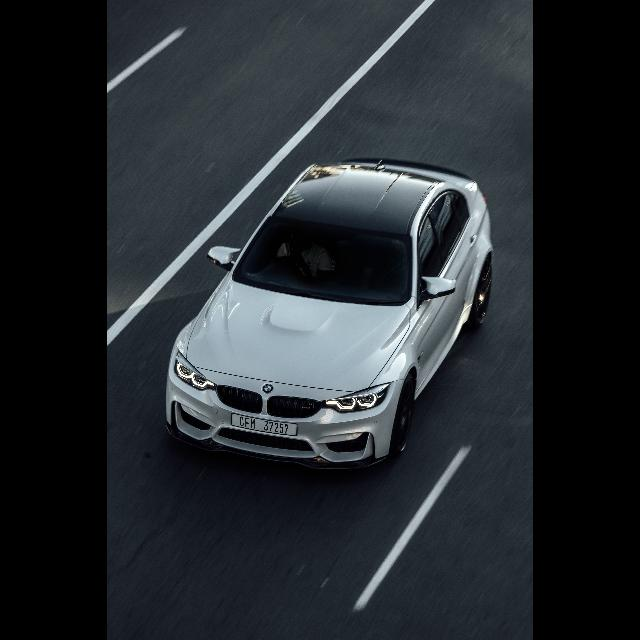cars: (148, 142, 504, 484)
